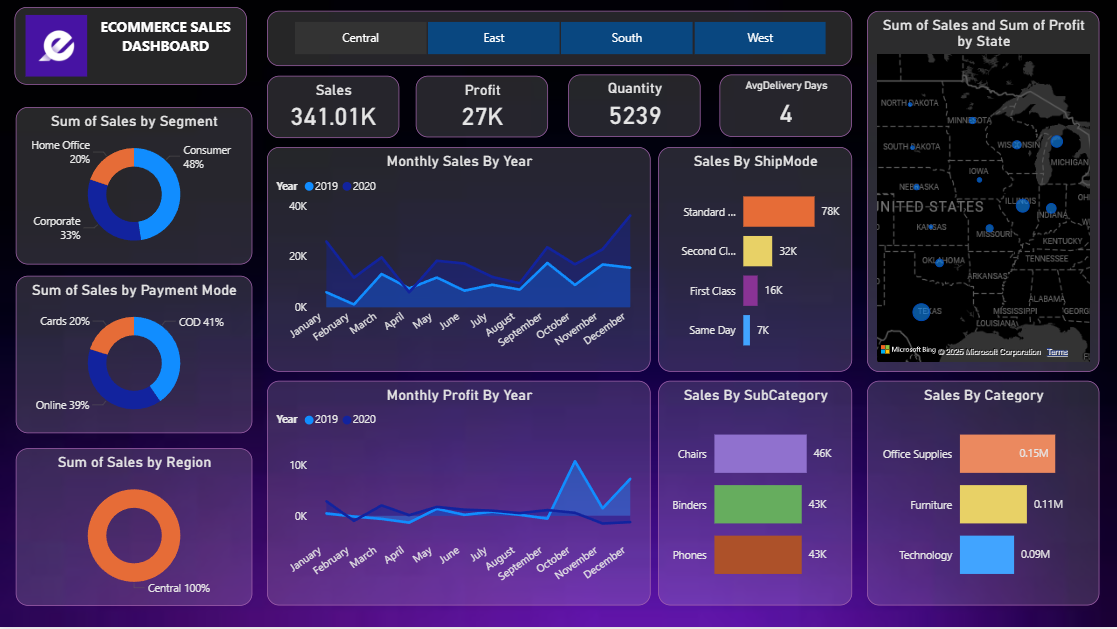

What the dashboard file says about the page in this screenshot:
{"tool":"powerbi","page":{"name":"Ecom_Sales_Dashboard","canvas":[1280,720],"ordinal":0},"visuals":[{"type":"clusteredBarChart","title":"Sales By Category","fields":{"Category":["SuperStore_Sales_Dataset.Category"],"Y":["Sum(SuperStore_Sales_Dataset.Sales)"]},"box":[994.3,438.6,265.7,257.1],"z":0},{"type":"clusteredBarChart","title":"Sales By SubCategory","fields":{"Category":["SuperStore_Sales_Dataset.Sub-Category"],"Y":["Sum(SuperStore_Sales_Dataset.Sales)"]},"box":[755.7,438.6,221.4,257.1],"z":1000},{"type":"clusteredBarChart","title":"Sales By ShipMode","fields":{"Category":["SuperStore_Sales_Dataset.Ship Mode"],"Y":["Sum(SuperStore_Sales_Dataset.Sales)"]},"box":[755.7,171.4,221.4,257.1],"z":2000},{"type":"areaChart","title":"Monthly Sales By Year","fields":{"Y":["Sum(SuperStore_Sales_Dataset.Sales)"],"Category":["SuperStore_Sales_Dataset.Order Date.Variation.Date Hierarchy.Month"],"Series":["SuperStore_Sales_Dataset.Order Date.Variation.Date Hierarchy.Year"]},"box":[308.6,171.4,438.6,257],"z":3000},{"type":"areaChart","title":"Monthly Profit By Year","fields":{"Category":["SuperStore_Sales_Dataset.Order Date.Variation.Date Hierarchy.Month"],"Series":["SuperStore_Sales_Dataset.Order Date.Variation.Date Hierarchy.Year"],"Y":["Sum(SuperStore_Sales_Dataset.Profit)"]},"box":[308.6,438.6,438.6,257.1],"z":4000},{"type":"map","fields":{"Category":["SuperStore_Sales_Dataset.State"],"Size":["Sum(SuperStore_Sales_Dataset.Sales)"]},"box":[994.3,15.7,265.7,412.9],"z":5000},{"type":"donutChart","fields":{"Category":["SuperStore_Sales_Dataset.Segment"],"Y":["Sum(SuperStore_Sales_Dataset.Sales)"]},"box":[21.4,125.7,270,180],"z":6000},{"type":"donutChart","fields":{"Category":["SuperStore_Sales_Dataset.Payment Mode"],"Y":["Sum(SuperStore_Sales_Dataset.Sales)"]},"box":[21.4,318.6,270,180],"z":7000},{"type":"donutChart","fields":{"Category":["SuperStore_Sales_Dataset.Region"],"Y":["Sum(SuperStore_Sales_Dataset.Sales)"]},"box":[21.4,515.7,270,180],"z":8000},{"type":"slicer","fields":{"Values":["SuperStore_Sales_Dataset.Region"]},"box":[308.6,15.7,668.6,62.9],"z":9000},{"type":"textbox","box":[20,11.4,265.7,88.6],"z":10000},{"type":"card","title":"Sales","fields":{"Values":["Sum(SuperStore_Sales_Dataset.Sales)"]},"box":[308.6,90,151,71.4],"z":11000},{"type":"card","title":"Quantity","fields":{"Values":["Sum(SuperStore_Sales_Dataset.Quantity)"]},"box":[652.9,88.6,151.4,71.4],"z":12000},{"type":"card","title":"Profit","fields":{"Values":["Sum(SuperStore_Sales_Dataset.Profit)"]},"box":[478.6,90,151.4,70],"z":13000},{"type":"card","title":"AvgDelivery Days","fields":{"Values":["Avg(SuperStore_Sales_Dataset.AvgDelivery)"]},"box":[825.7,88.6,151.4,71.4],"z":14000},{"type":"image","box":[21.4,15.7,92.9,80],"z":15000}]}

Visuals, with their boxes in screenshot pixels (x1, y1, x2, y2), scaled from the page's 1280x720 canvas onto the 1117x629 screenshot:
"Sales By Category" clusteredBarChart: x1=868, y1=383, x2=1100, y2=608
"Sales By SubCategory" clusteredBarChart: x1=659, y1=383, x2=853, y2=608
"Sales By ShipMode" clusteredBarChart: x1=659, y1=150, x2=853, y2=374
"Monthly Sales By Year" areaChart: x1=269, y1=150, x2=652, y2=374
"Monthly Profit By Year" areaChart: x1=269, y1=383, x2=652, y2=608
map - SuperStore_Sales_Dataset.State x Sum(SuperStore_Sales_Dataset.Sales): x1=868, y1=14, x2=1100, y2=374
donutChart - SuperStore_Sales_Dataset.Segment x Sum(SuperStore_Sales_Dataset.Sales): x1=19, y1=110, x2=254, y2=267
donutChart - SuperStore_Sales_Dataset.Payment Mode x Sum(SuperStore_Sales_Dataset.Sales): x1=19, y1=278, x2=254, y2=436
donutChart - SuperStore_Sales_Dataset.Region x Sum(SuperStore_Sales_Dataset.Sales): x1=19, y1=451, x2=254, y2=608
slicer - SuperStore_Sales_Dataset.Region: x1=269, y1=14, x2=853, y2=69
textbox: x1=17, y1=10, x2=249, y2=87
"Sales" card: x1=269, y1=79, x2=401, y2=141
"Quantity" card: x1=570, y1=77, x2=702, y2=140
"Profit" card: x1=418, y1=79, x2=550, y2=140
"AvgDelivery Days" card: x1=721, y1=77, x2=853, y2=140
image: x1=19, y1=14, x2=100, y2=84
